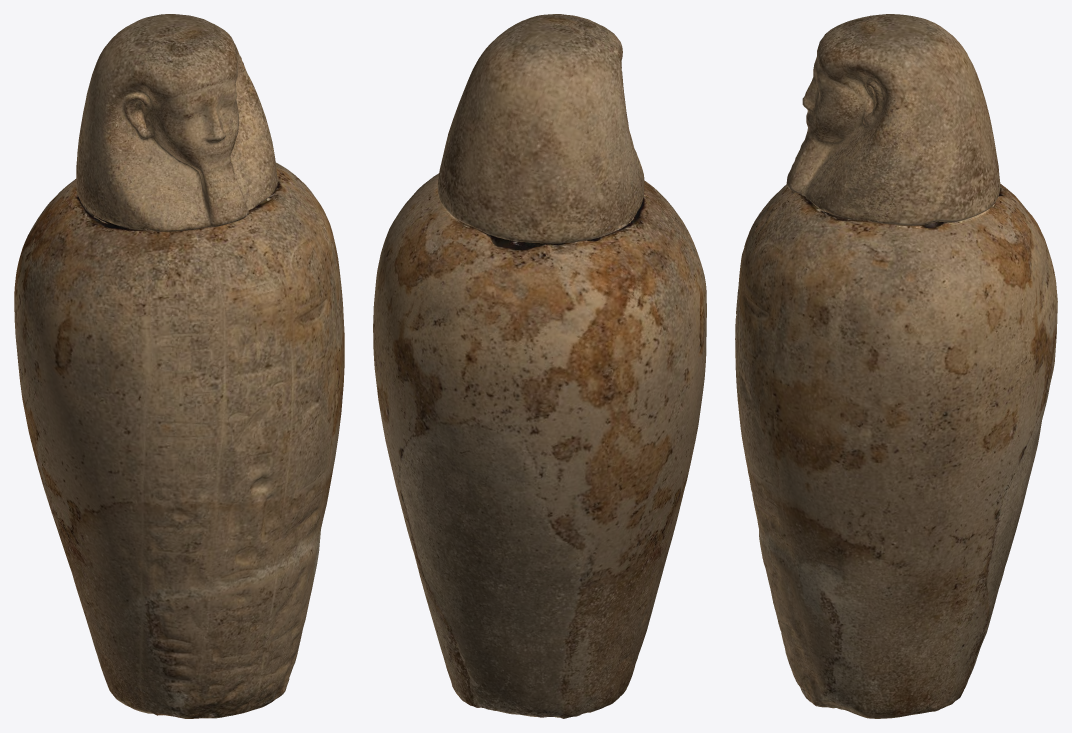
File: vaso-canopico.glb
3 views of the same model, side by side, from view 1: azimuth 30°, elevation 25°; view 2: azimuth 150°, elevation 25°; view 3: azimuth 270°, elevation 25° (orthographic).
Parts seen in each view (by area): view 1: Object_2; view 2: Object_2; view 3: Object_2.
Boxes of the visible parts, box(x1,y1,x2,y2) form: Object_2: box(14, 14, 344, 718); Object_2: box(373, 14, 706, 718); Object_2: box(735, 14, 1057, 718).
Bounding box in the file's own units: 0.7769 × 1.7 × 0.7618.
1 material, 1 textured.
